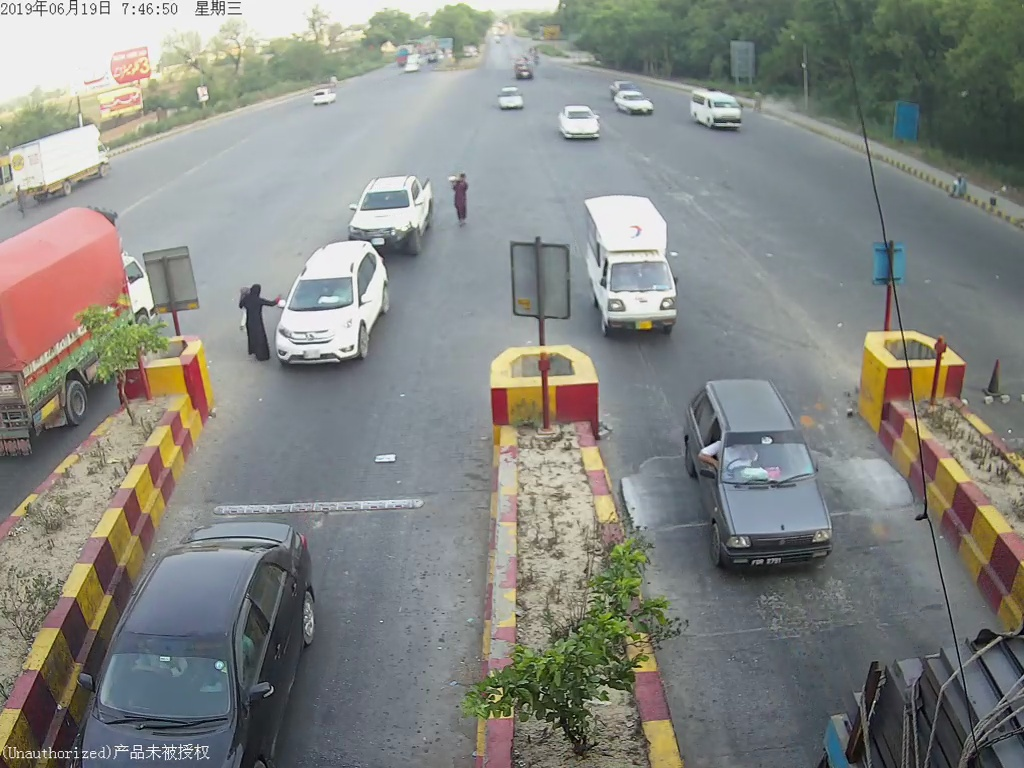Cat-1: (678, 371, 841, 573), (275, 247, 395, 380), (580, 197, 682, 337), (351, 173, 429, 246)
